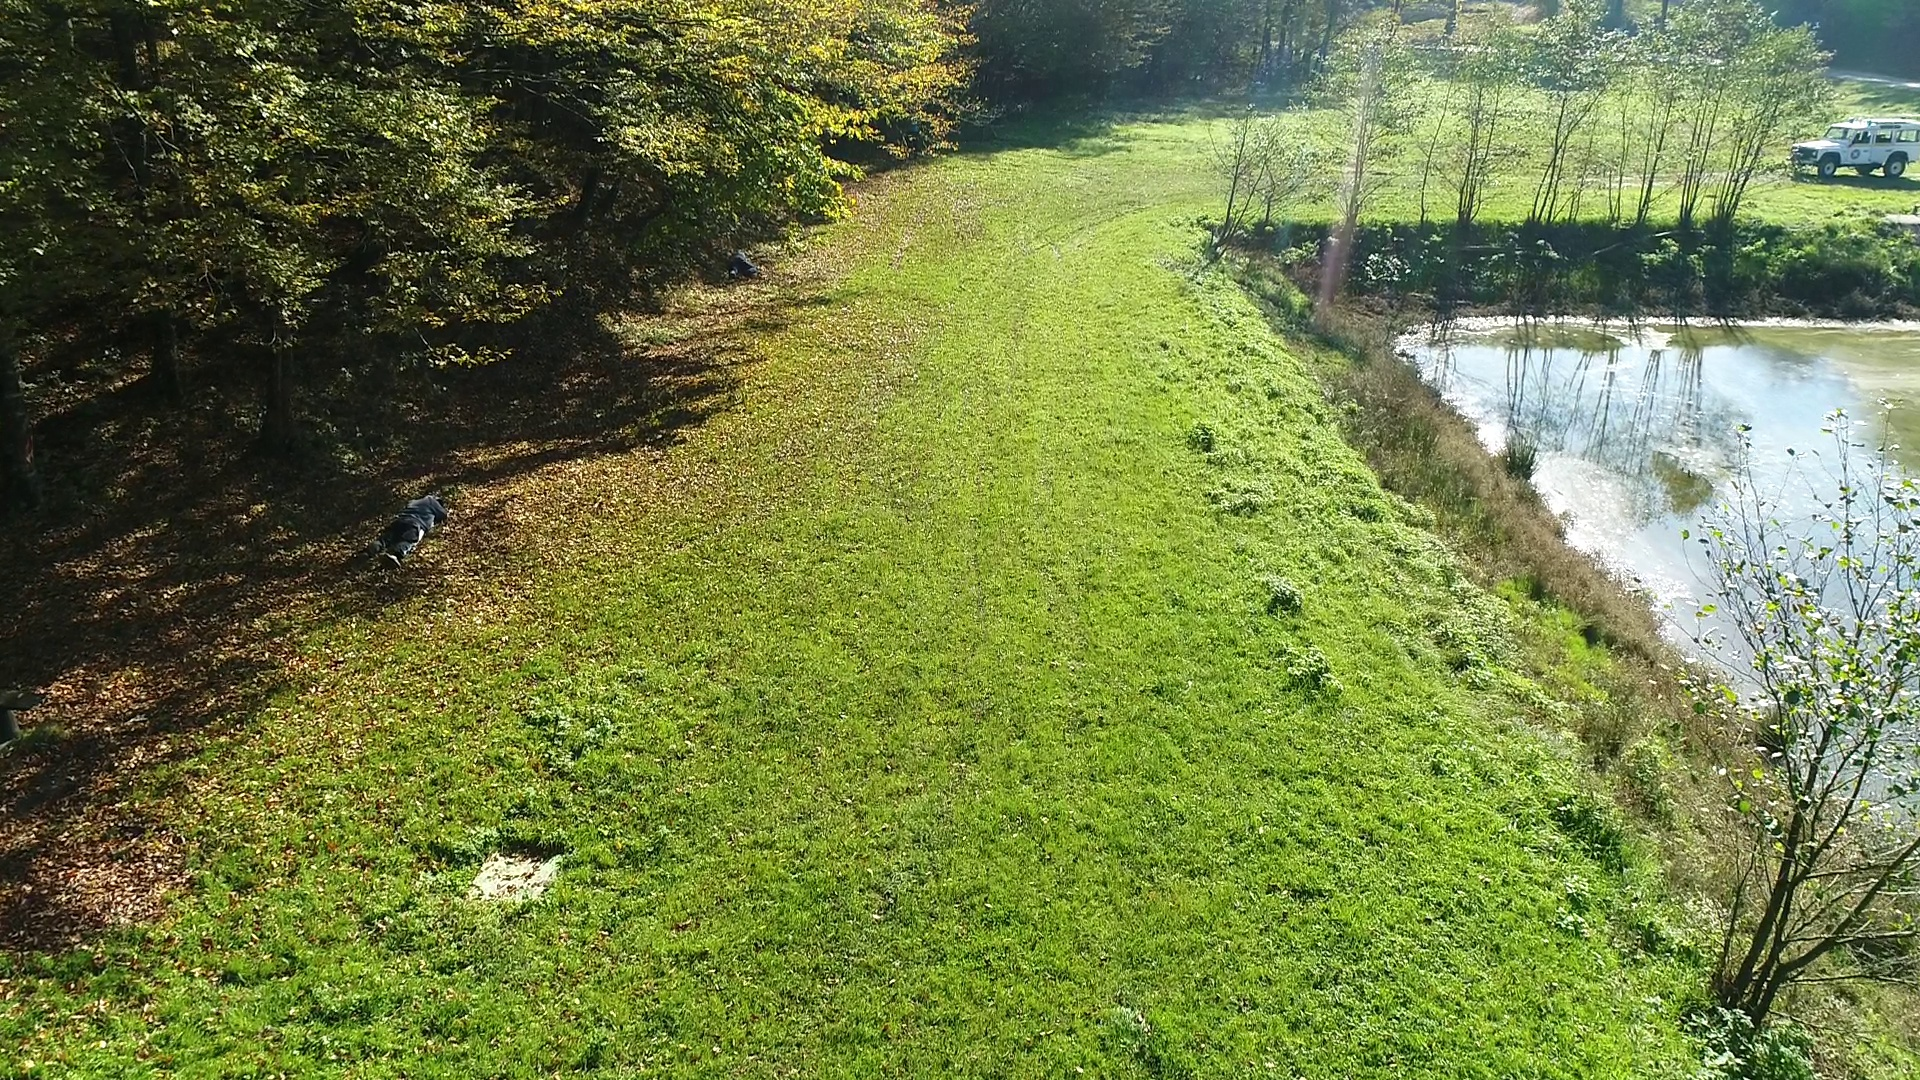person: (353, 495, 448, 570), (904, 110, 924, 160), (728, 247, 757, 278)
